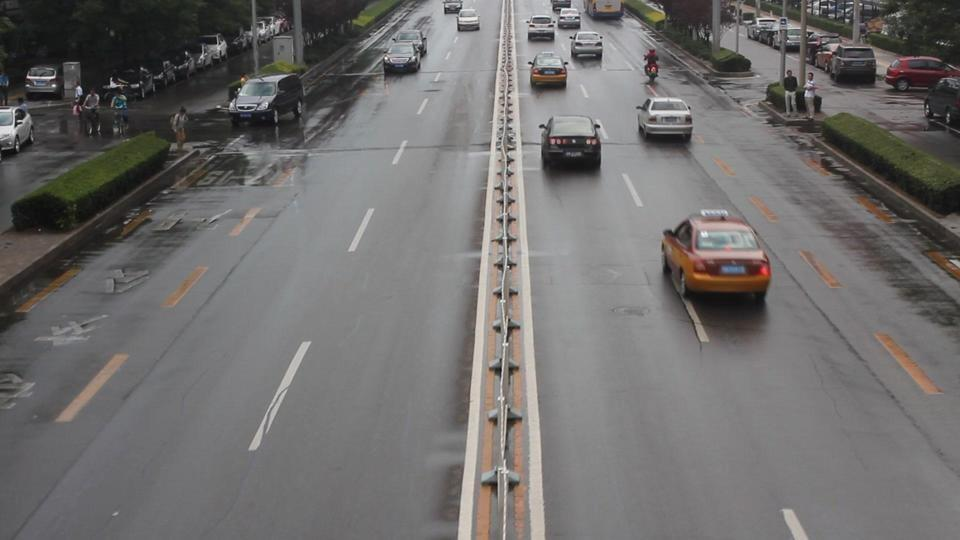car: (660, 210, 772, 302), (825, 47, 941, 86), (228, 73, 307, 126), (539, 115, 604, 169), (635, 96, 693, 141), (885, 57, 960, 91), (923, 77, 960, 134), (828, 44, 877, 85), (0, 106, 33, 156), (529, 51, 569, 91), (110, 65, 158, 98), (25, 65, 63, 101), (383, 40, 422, 74), (570, 30, 604, 63), (391, 29, 426, 59), (197, 33, 228, 64), (585, 0, 624, 22), (526, 14, 556, 41), (457, 4, 481, 31), (555, 9, 582, 30), (443, 0, 463, 14)
